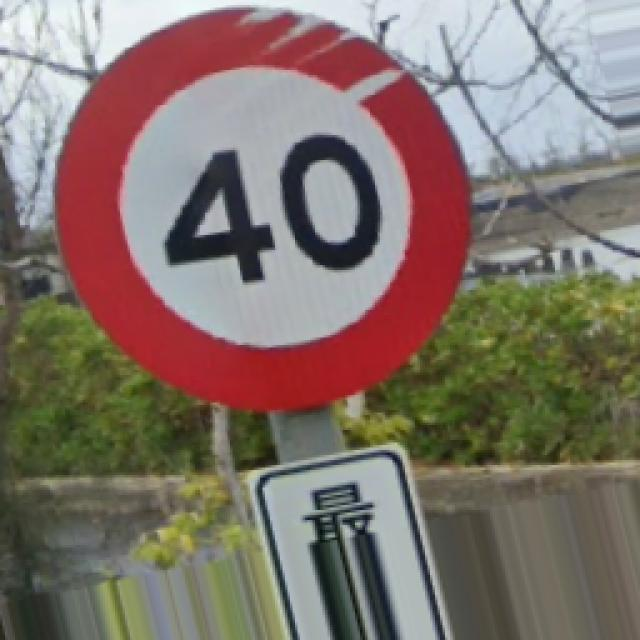Speed Limit -40-: (58, 10, 468, 408)
